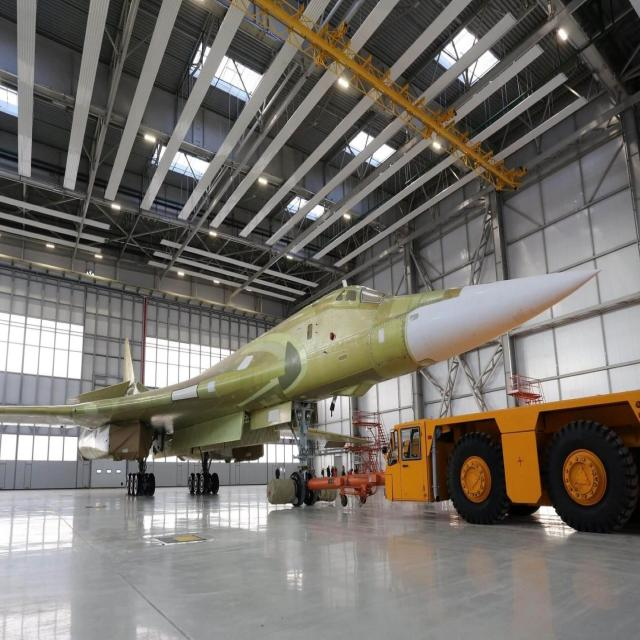Tu160: (3, 237, 610, 517)
